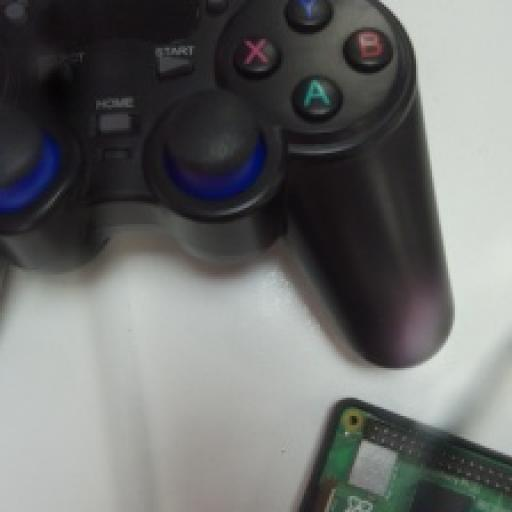game pad: (0, 0, 450, 366)
